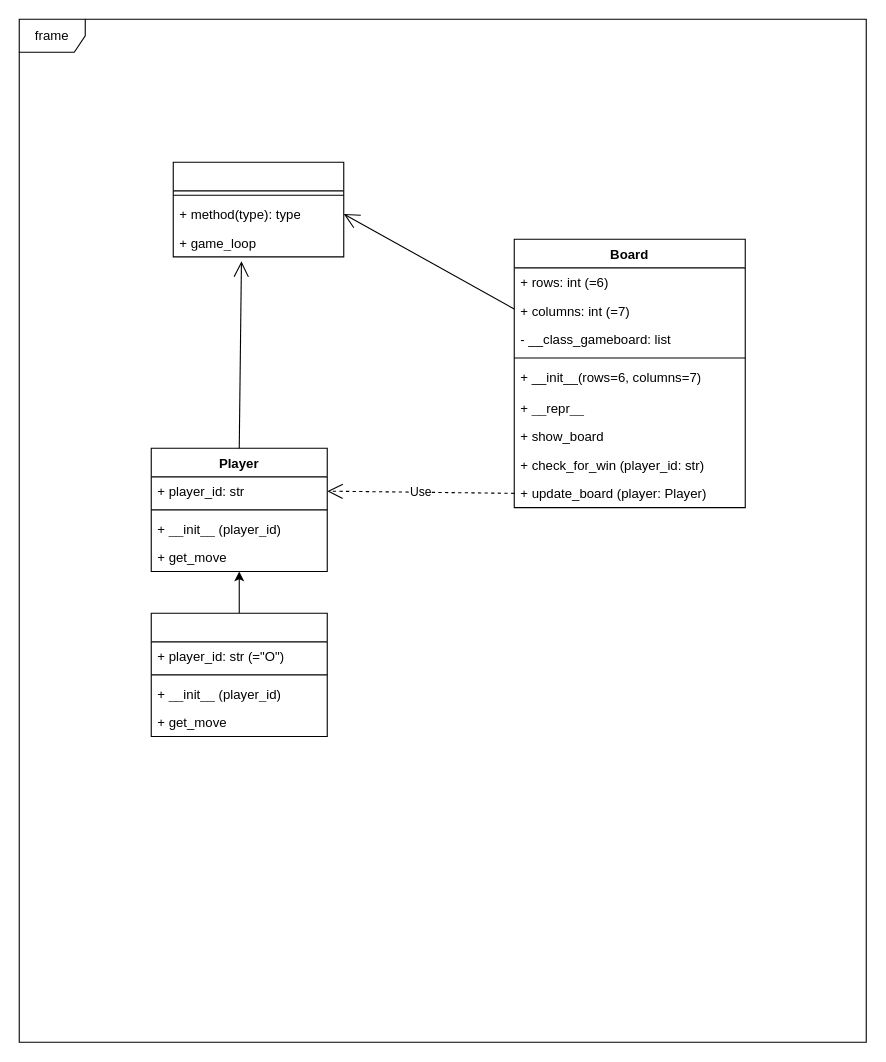
Some shapes in this 886 by 1062 pixel diagram are drawn without their labels. The shapes that lost their labels are listed below. From the top down, each one's box as (x1, y1, x2, y2) in pixels, then its label:
(172, 161, 344, 257): VierGewinnt
(150, 612, 327, 736): PlayerAI
